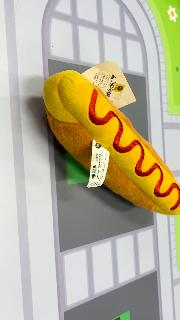hotdog: (43, 70, 180, 216)
